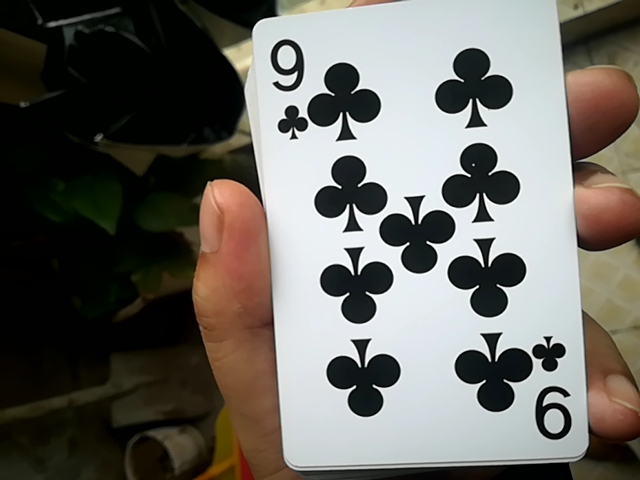mh 9: (235, 11, 588, 472)
